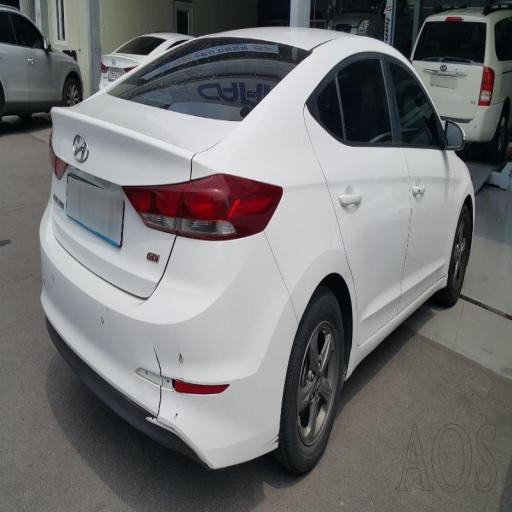broken: (136, 322, 198, 462)
